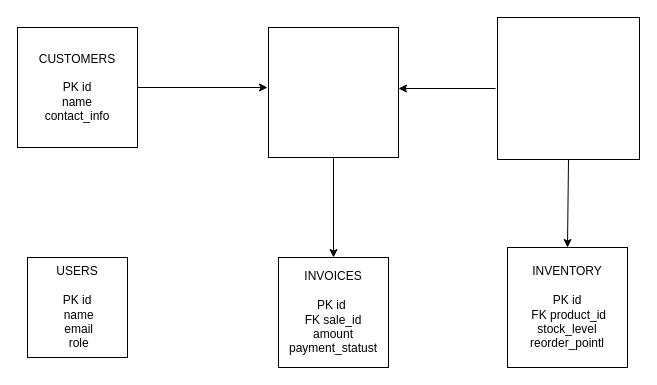
This 657x385 diagram has some shape labels left out. Each missing label, with the centre of its shape:
"PRODUCTS PK id name category unit_price" goes at point 568,88.
"SALES PK id FK product_id FK customer_id quantity sale_date" goes at point 333,92.
